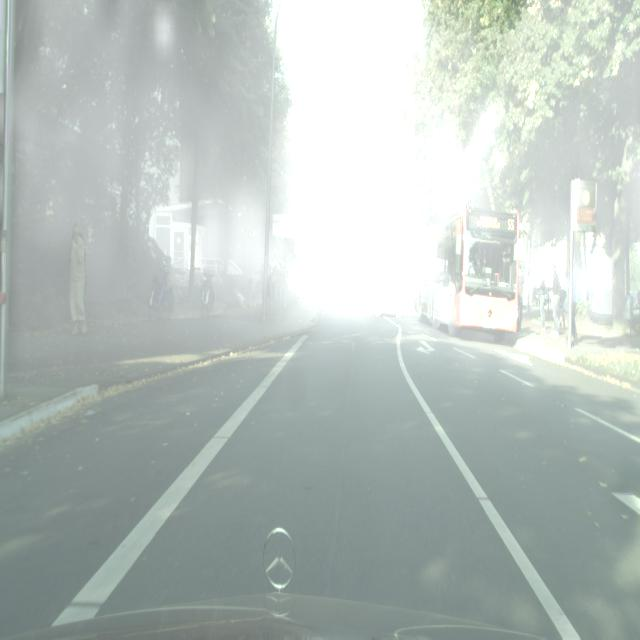bicycle: (415, 206, 524, 342)
person: (69, 224, 88, 335), (568, 257, 580, 348), (550, 263, 562, 336), (538, 265, 548, 332)
truck: (374, 275, 402, 318), (335, 276, 345, 294)
